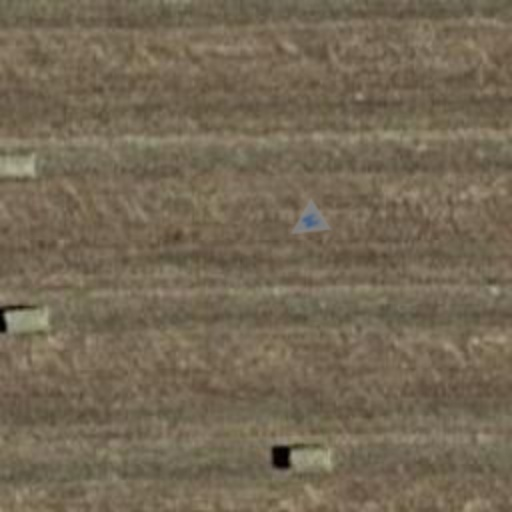triangle: (280, 198, 332, 250)
